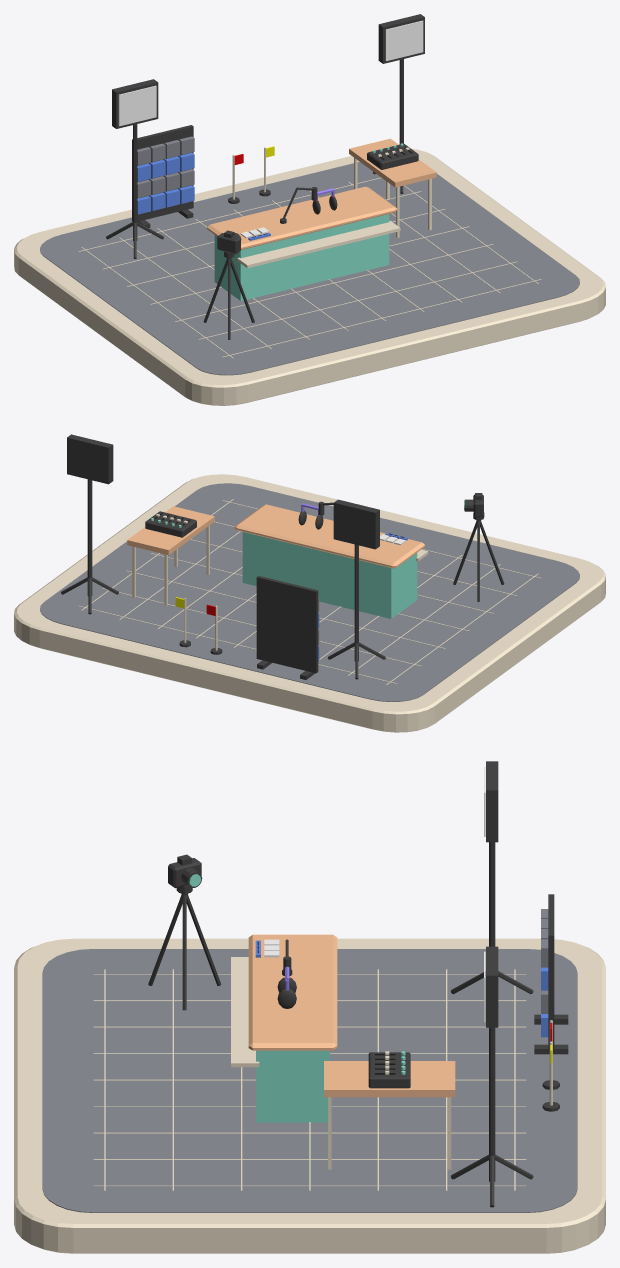
3 renders of one model, top to bottom at view 1: azimuth 30°, elevation 25°; view 2: azimuth 150°, elevation 25°; view 3: azimuth 270°, elevation 25°, orthographic. The views are drawn at different scales.
Visible parts, largest first — view 1: COM-02 Floor Surface, COM-01 Rounded Base Direct, Counter body, Countertop, Top, Visitor shelf, Panel, Diffuser, Diffuser.001, Audio console, Light panel, Light panel.001 (+1 smaller); view 2: COM-02 Floor Surface, COM-01 Rounded Base Direct, Counter body, Panel, Countertop, Top, Light panel, Light panel.001, Audio console, Pole.001, Pole; view 3: COM-02 Floor Surface, COM-01 Rounded Base Direct, Countertop, Counter body, Top, Visitor shelf, Audio console, Light panel, Light panel.001, Panel, Pole.001, Grout X.008 (+2 smaller).
Part boxes in pixels (x1,y1,x2,y2): COM-02 Floor Surface: (40,162,579,375); COM-01 Rounded Base Direct: (14,148,605,405); Counter body: (214,214,389,300); Countertop: (207,186,397,249); Top: (349,138,436,238); Visitor shelf: (237,220,400,268); Panel: (132,125,193,221); Diffuser: (118,85,156,126); Diffuser.001: (385,20,423,61); Audio console: (367,143,418,169); Light panel: (112,79,158,128); Light panel.001: (378,14,424,63); COM-02 Floor Surface: (40,483,579,701); COM-01 Rounded Base Direct: (14,474,605,732); Counter body: (242,532,417,618); Panel: (256,576,318,673); Countertop: (234,504,424,568); Top: (127,506,214,605); Light panel: (333,499,379,549); Light panel.001: (67,434,113,484); Audio console: (145,511,196,537); Pole.001: (87,479,92,595); Pole: (354,544,358,661); COM-02 Floor Surface: (42,949,577,1212); COM-01 Rounded Base Direct: (14,938,605,1253); Countertop: (248,934,337,1050); Counter body: (256,1050,329,1122); Top: (324,1061,455,1169); Visitor shelf: (231,957,259,1067); Audio console: (368,1052,410,1088); Light panel: (486,761,498,842); Light panel.001: (486,946,498,1027); Panel: (548,894,554,1051); Pole.001: (489,1027,495,1181); Grout X.008: (94,1185,525,1186).
Bounding box in the file's own units: 6 × 2.5 × 5.2.
1 material, 1 textured.
